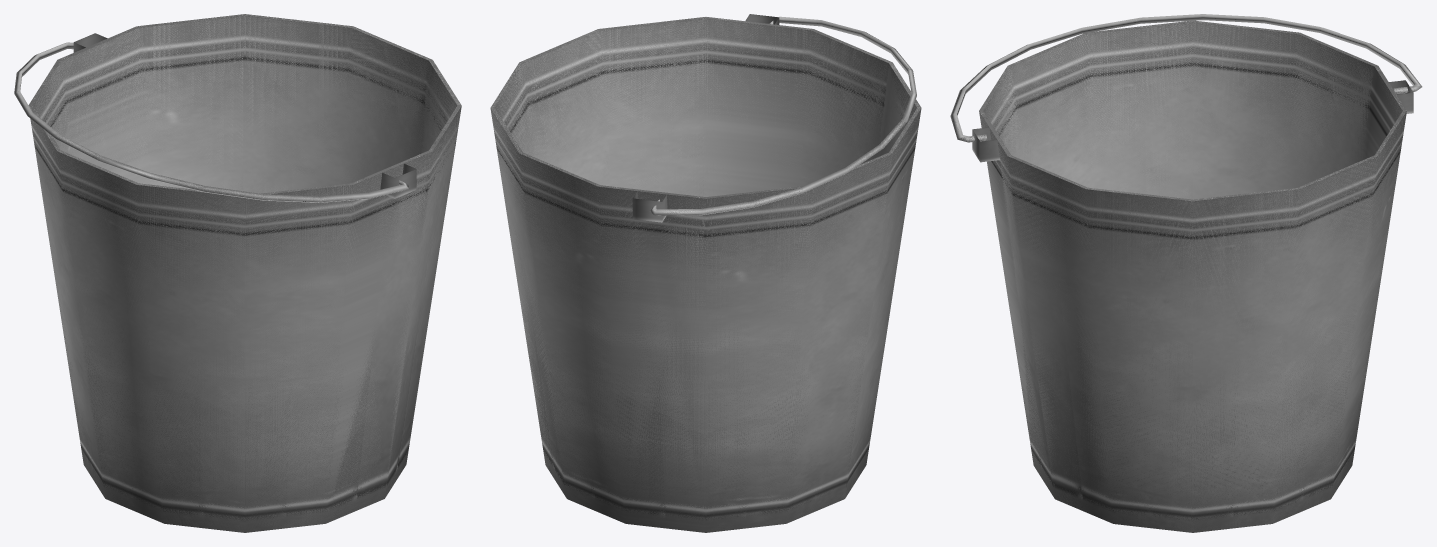
Rendered from bucket.fbx.
The picture shows the model from 3 angles, left to right: view 1: azimuth 30°, elevation 25°; view 2: azimuth 150°, elevation 25°; view 3: azimuth 270°, elevation 25°; orthographic projection.
Visible parts, largest first — view 1: Group1; view 2: Group1; view 3: Group1.
Boxes of the visible parts, box(x1,y1,x2,y2) form: Group1: box(14, 14, 461, 532); Group1: box(490, 14, 921, 532); Group1: box(950, 14, 1422, 532).
Size of the model in its own units: 424 by 400 by 468.
